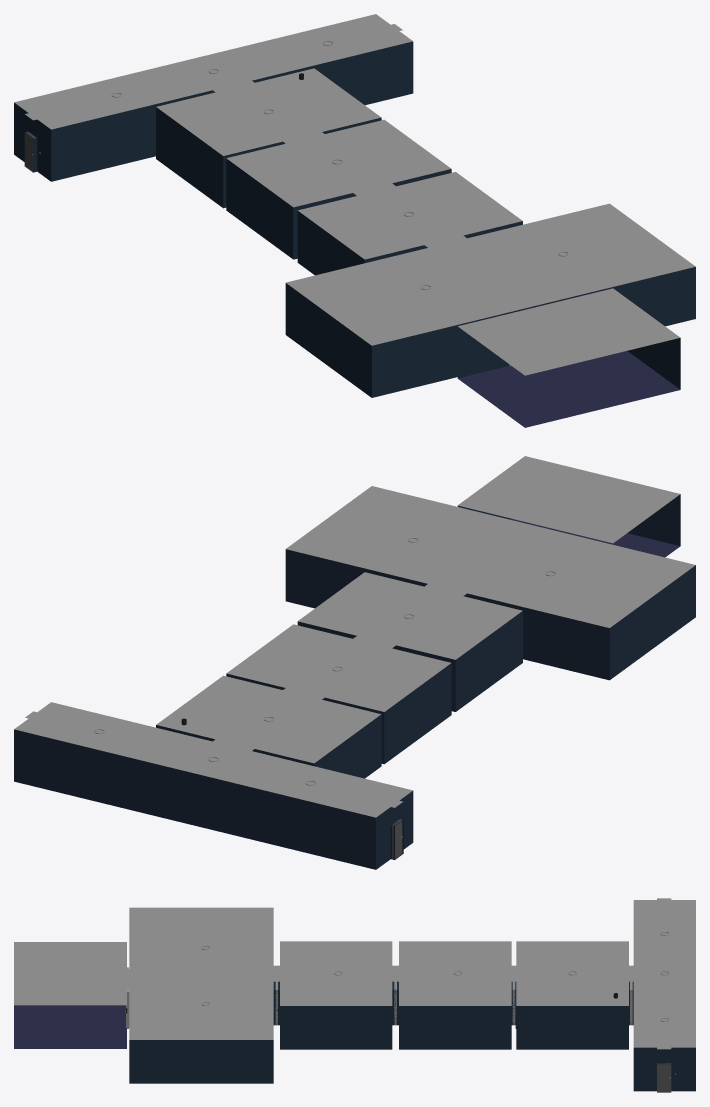
Rendered from room (1).FBX.
3 views of the same model, one above another, from view 1: azimuth 30°, elevation 25°; view 2: azimuth 150°, elevation 25°; view 3: azimuth 270°, elevation 25° (orthographic). The views are drawn at different scales.
Parts seen in each view (by area): view 1: Object020; view 2: Object020; view 3: Object020, door1.
Part boxes in pixels (x1,y1,x2,y2): Object020: (14,14,695,427); Object020: (14,456,695,869); Object020: (14,898,695,1092); door1: (657,1063,671,1092).
Bounding box in the file's own units: 207 × 30.28 × 395.
